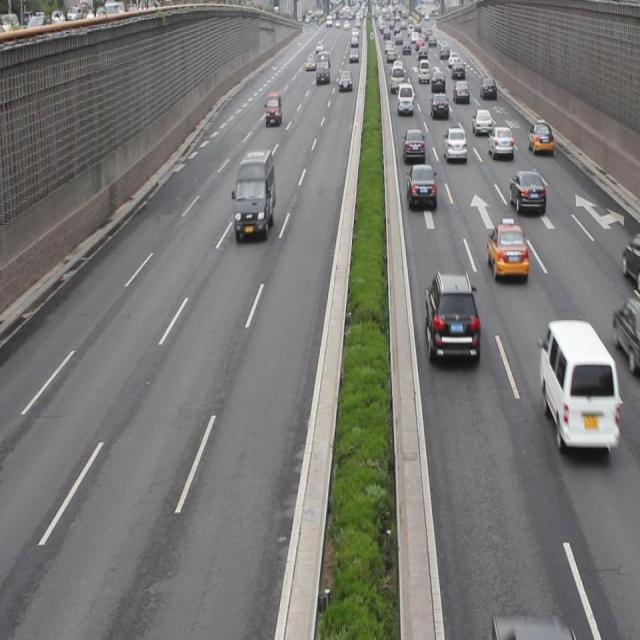car: (424, 271, 480, 369), (487, 218, 526, 282), (611, 296, 640, 370), (508, 170, 543, 216), (406, 165, 435, 207), (620, 225, 640, 280), (442, 126, 465, 163), (487, 125, 513, 157), (528, 121, 552, 154), (404, 129, 424, 163), (470, 109, 491, 135)
truck: (536, 321, 616, 455), (232, 153, 274, 240)
